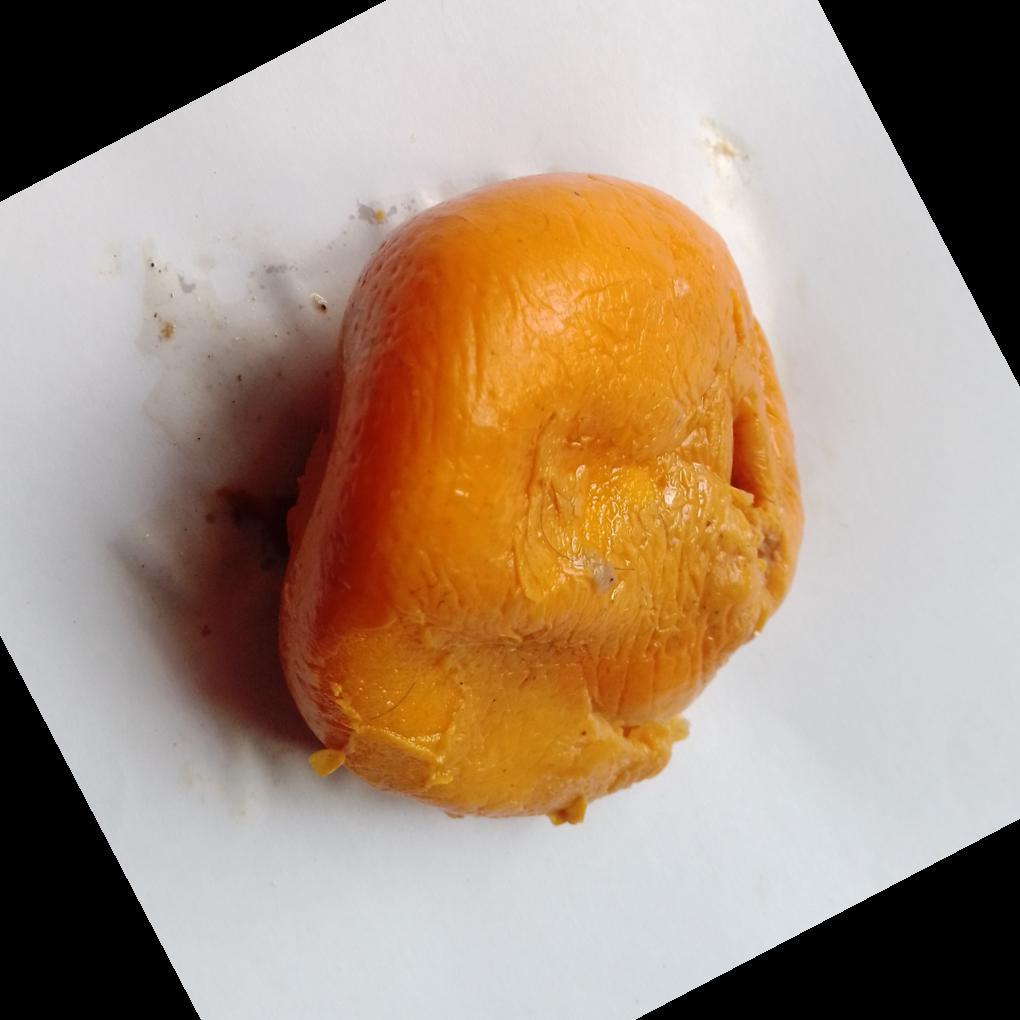FreshOrange: (275, 173, 805, 828)
